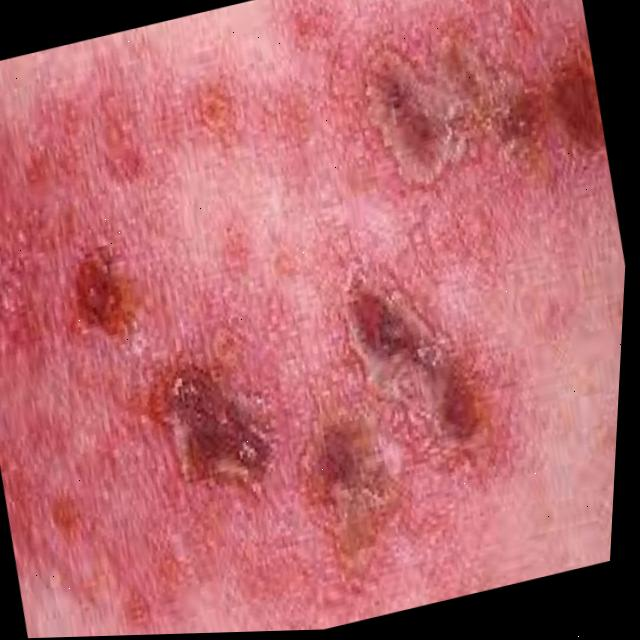Shingles: (292, 268, 507, 530), (372, 25, 614, 207), (148, 364, 291, 511), (63, 259, 149, 339)
